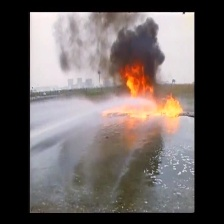fire: (119, 60, 155, 98), (156, 93, 186, 120)
